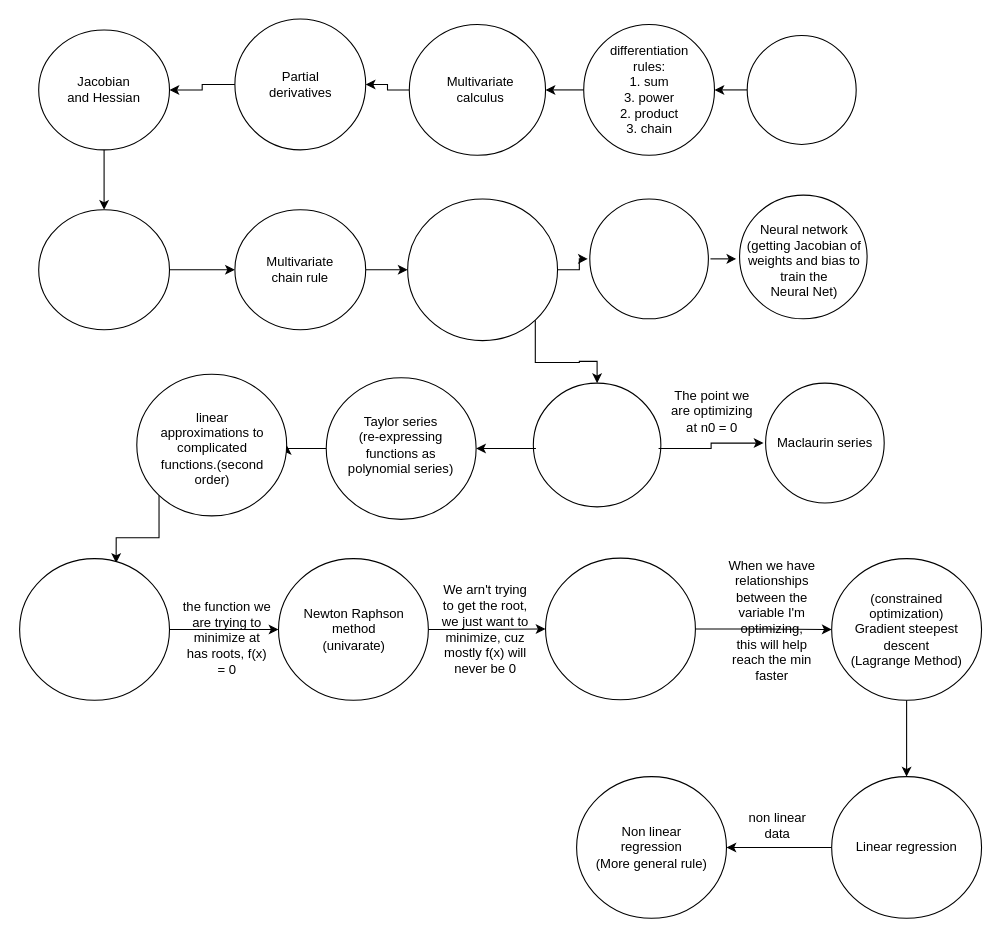
Image size: 1001x937. Some labels were removed from this diagram. Here are the shapes that lost their labels. From the top down, the box of each, then its label:
(746, 34, 856, 144): functions and derivatives
(38, 209, 169, 330): Getting the direction of min or max
(407, 198, 558, 341): Getting the direction of min or max (of functions of functions)
(589, 198, 708, 319): Neural Nets (feed forward)
(532, 382, 661, 507): Power Series
(19, 558, 169, 700): Multivariate Taylor series (Jacobian and Hessain appears)
(544, 557, 695, 700): Gradient steepest descent
